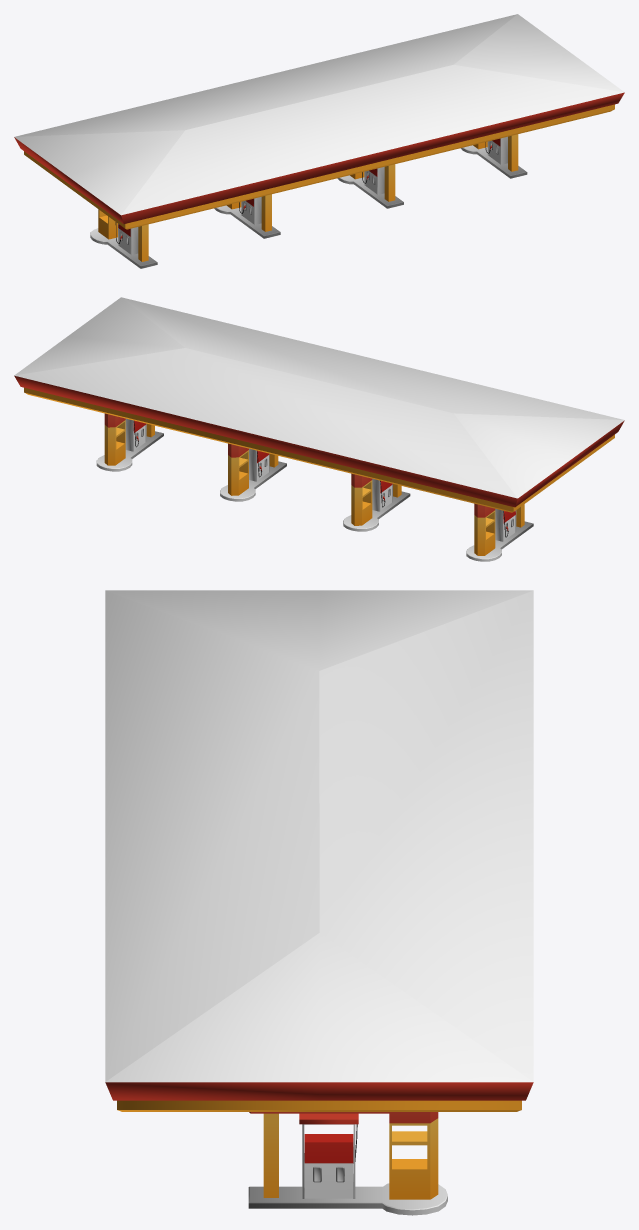
Rendered from PomBensin.fbx.
The picture shows the model from 3 angles, top to bottom: view 1: azimuth 30°, elevation 25°; view 2: azimuth 150°, elevation 25°; view 3: azimuth 270°, elevation 25°; orthographic projection. The views are drawn at different scales.
Parts seen in each view (by area): view 1: SPBURoof_LOD0, Body1PomBensin_LOD0; view 2: SPBURoof_LOD0, Body1PomBensin_LOD0; view 3: SPBURoof_LOD0, Body1PomBensin_LOD0.
Boxes of the visible parts, x1,y1,x2,y2 form: SPBURoof_LOD0: (14,14,624,229); Body1PomBensin_LOD0: (90,134,527,268); SPBURoof_LOD0: (14,297,624,512); Body1PomBensin_LOD0: (96,413,533,561); SPBURoof_LOD0: (105,590,533,1111); Body1PomBensin_LOD0: (248,1112,447,1215).
Size of what is drawn, in the model's own units: 4076 by 855 by 1501.
